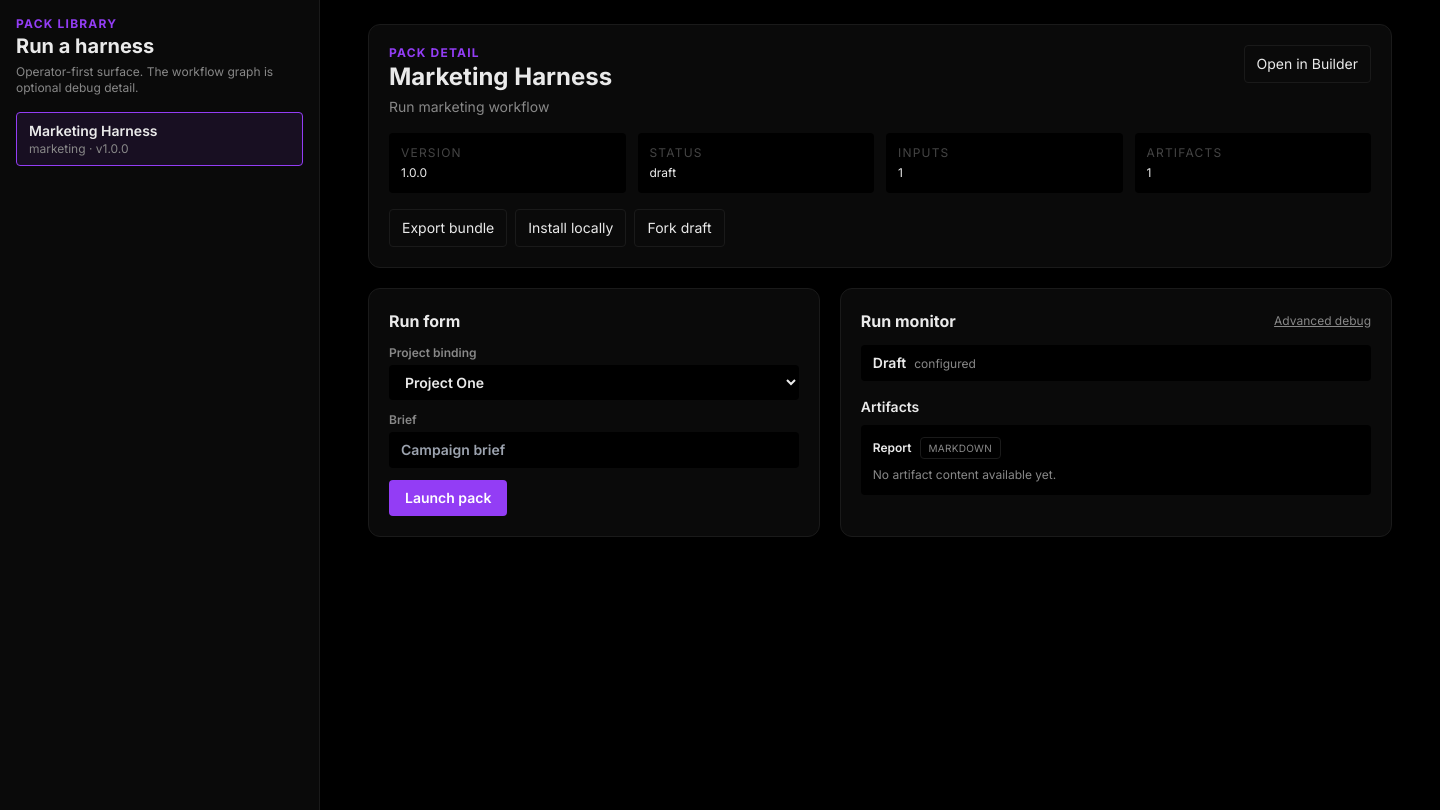
Test: PackLibraryView › launches with explicit projectId, projectPath, and generated input payload
Expected: the text "Pack Detail" is shown, [389,45,480,60]
Type "Launch the spring campaign" into the field labelled "Brief" at (594, 450), box [389,432,799,468]
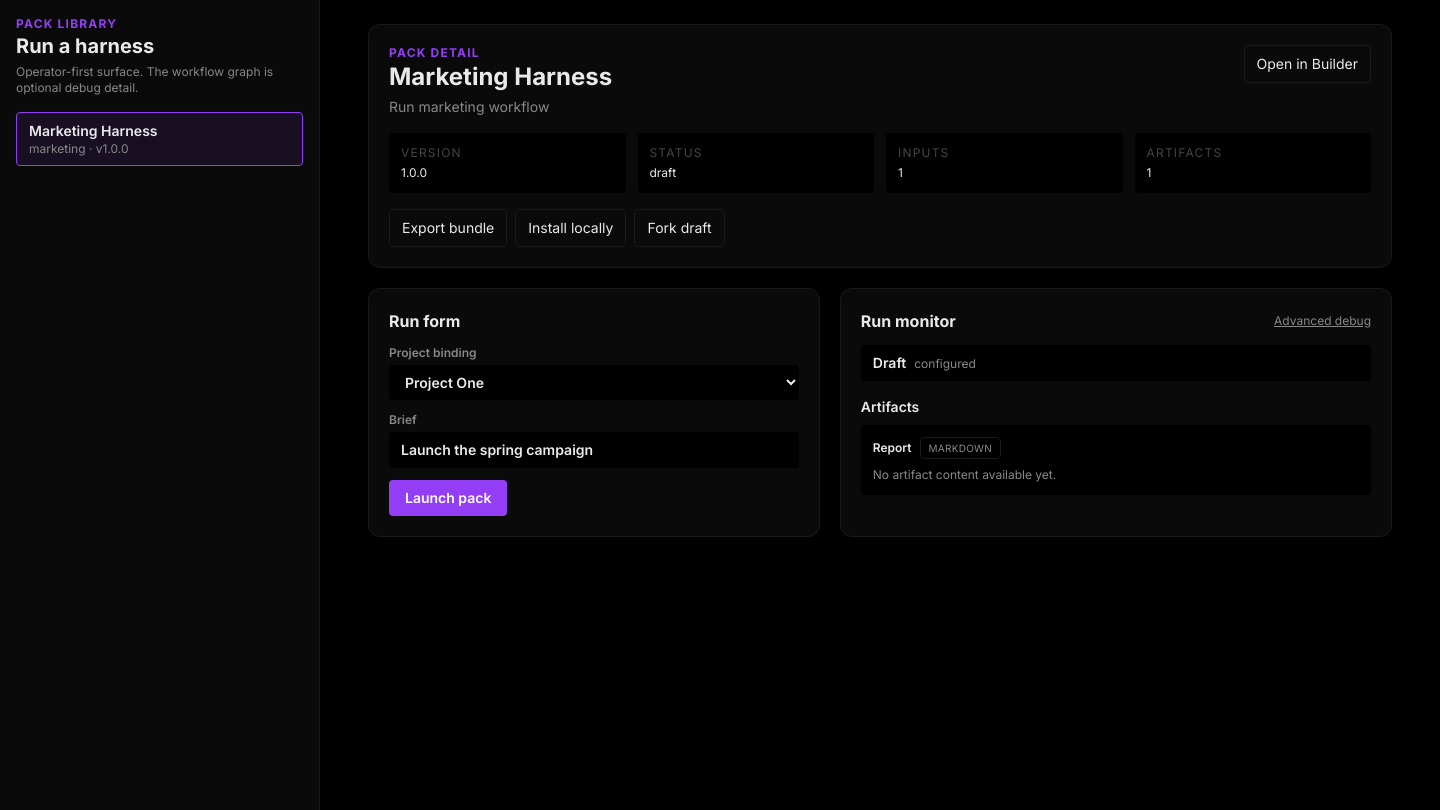
Click the button "Launch pack" at (448, 498), box [389,480,507,516]
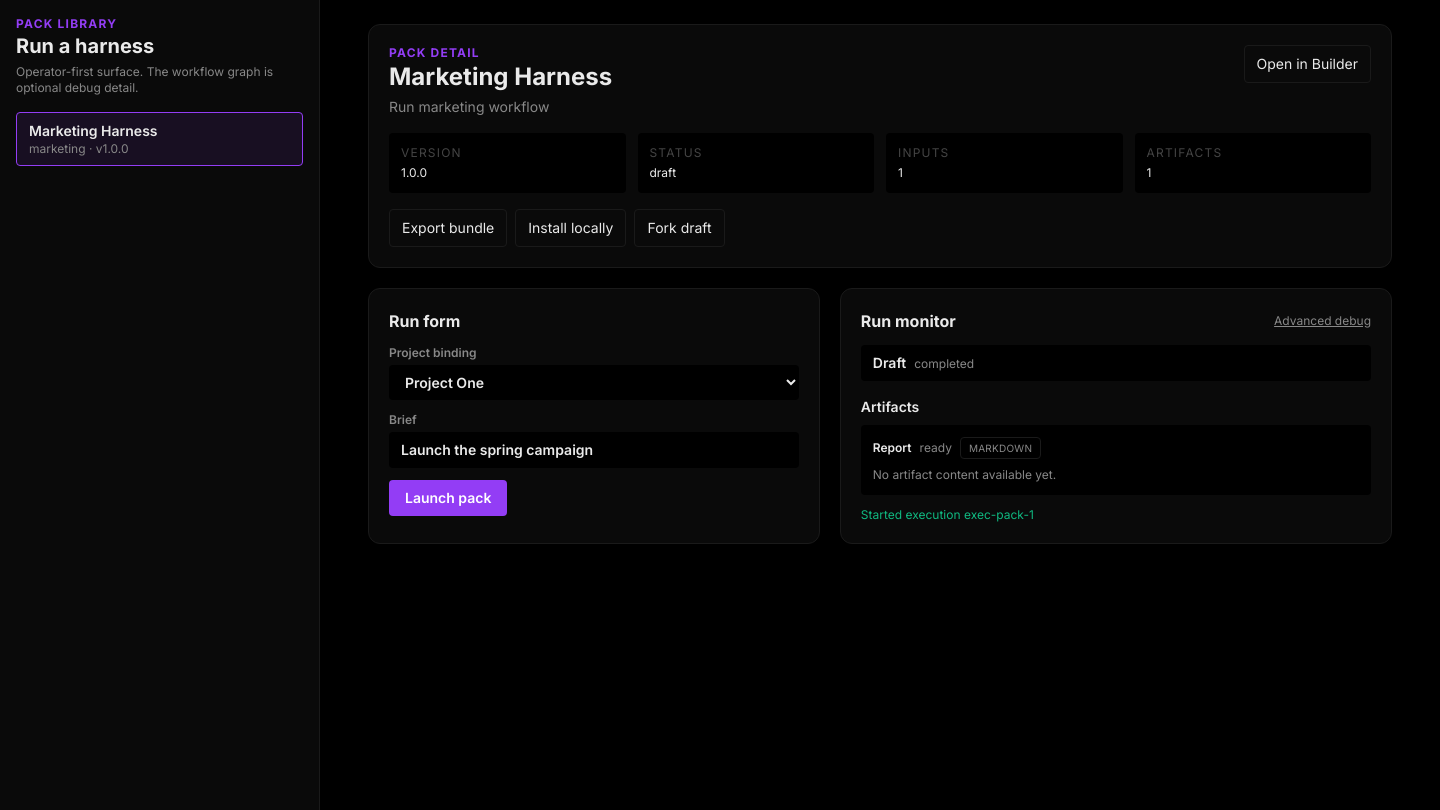
Now the text "Started execution exec-pack-1" is shown, box [861,507,1034,522]
